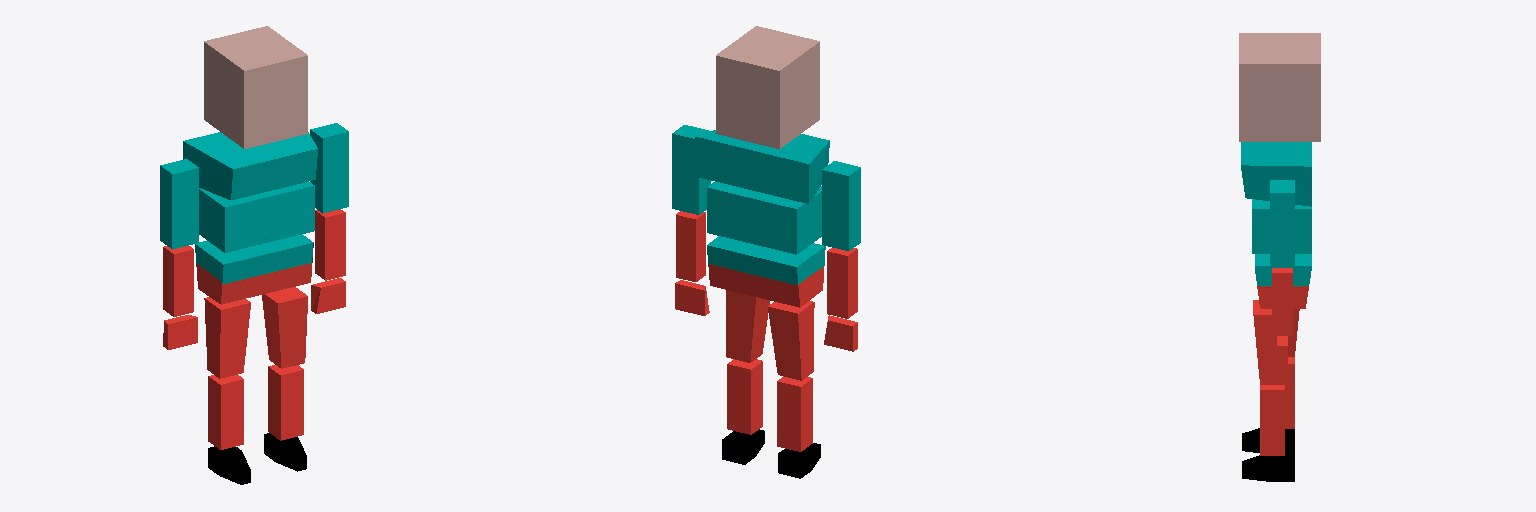
3 views of the same model, side by side, from view 1: azimuth 30°, elevation 25°; view 2: azimuth 150°, elevation 25°; view 3: azimuth 270°, elevation 25° (orthographic).
Visible parts, largest first — view 1: Cube; view 2: Cube; view 3: Cube.
Part boxes in pixels (x1,y1,x2,y2): Cube: (160, 26, 348, 484); Cube: (672, 26, 860, 478); Cube: (1239, 33, 1320, 481).
Size of the model in its own units: 4.76 by 10.6 by 1.88.
1 materials, 1 textured.